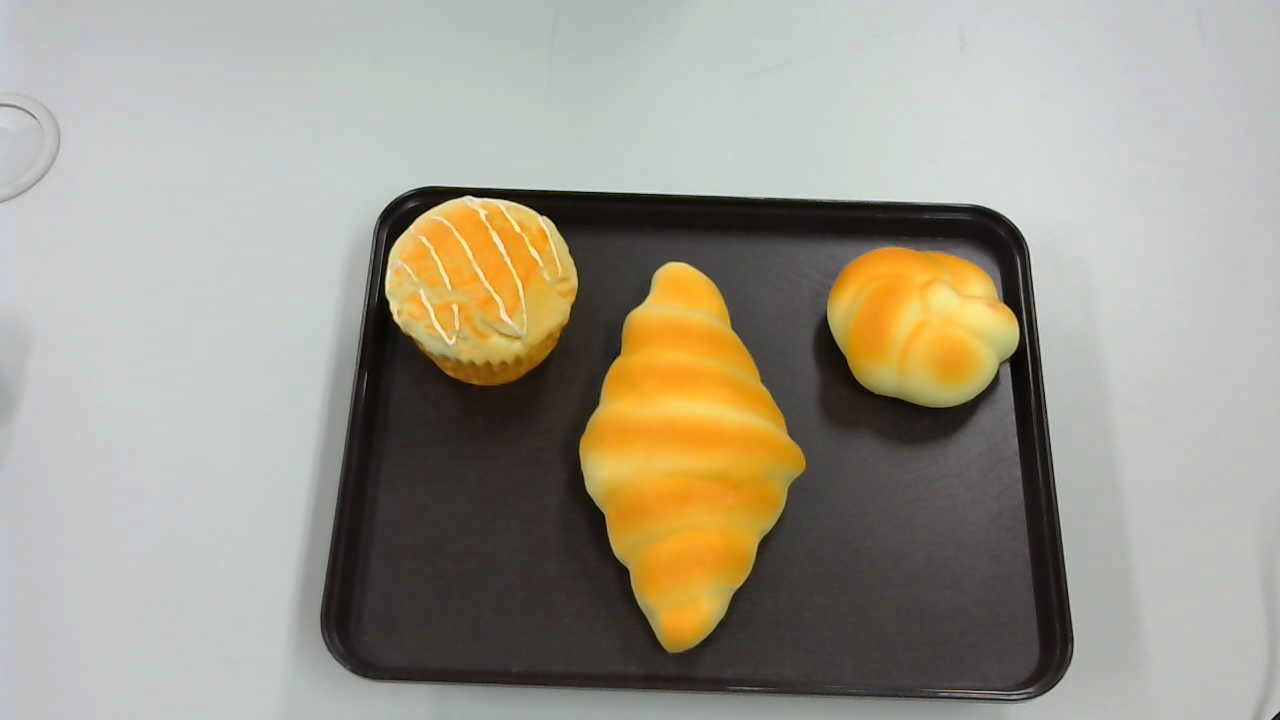croissant: (578, 262, 807, 654), (827, 247, 1021, 408)
cupcake: (384, 197, 578, 389)
